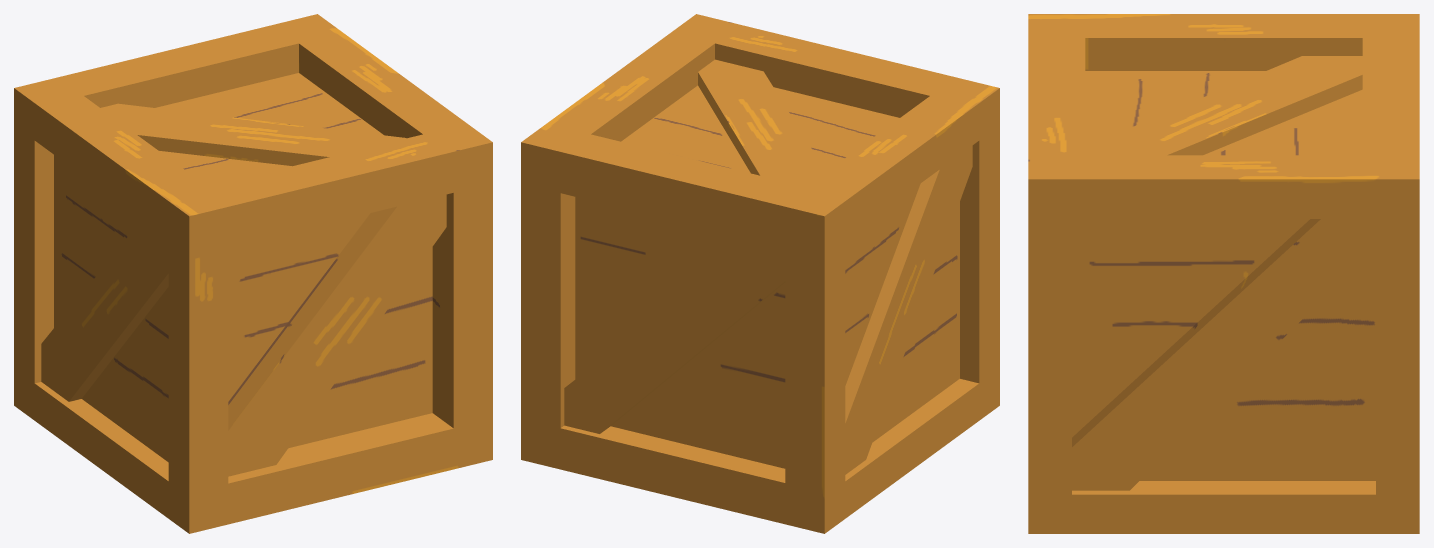
Rendered from Caixa.fbx.
The picture shows the model from 3 angles, left to right: view 1: azimuth 30°, elevation 25°; view 2: azimuth 150°, elevation 25°; view 3: azimuth 270°, elevation 25°; orthographic projection. The views are drawn at different scales.
Parts seen in each view (by area): view 1: Cube; view 2: Cube; view 3: Cube.
Part boxes in pixels (x1,y1,x2,y2): Cube: [14, 14, 492, 533]; Cube: [521, 14, 999, 533]; Cube: [1028, 14, 1419, 533].
Size of the model in its own units: 429 by 429 by 429.
1 material, 1 textured.
